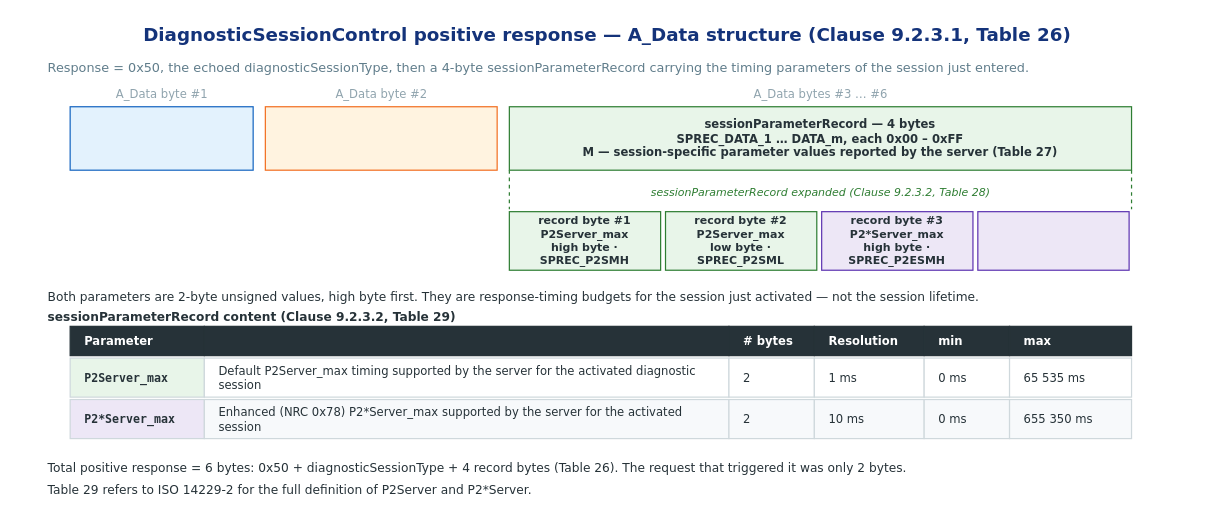
Image size: 1213x520. Some labels were removed from this diagram. The shapes that lost their labels are listed below. From the top down, each one's box as (x1, y1, x2, y2) in pixels, then its label:
(69, 106, 253, 170): DiagnosticSessionControl SID 0x50 DSCPR · M (mandatory)
(264, 106, 497, 170): diagnosticSessionType 0x00 – 0xFF LEV_DS_ · M — echo of bits 6-0 of the request
(977, 210, 1129, 270): record byte #4 P2*Server_max low byte · SPREC_P2ESML
(203, 325, 729, 356): Description
